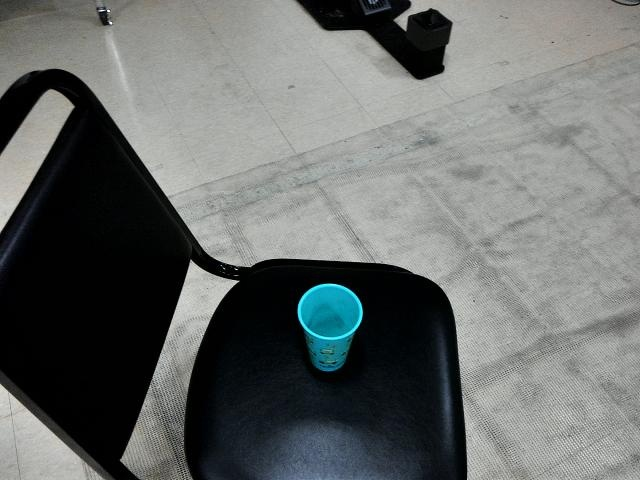coffee_cup: (290, 279, 365, 375)
